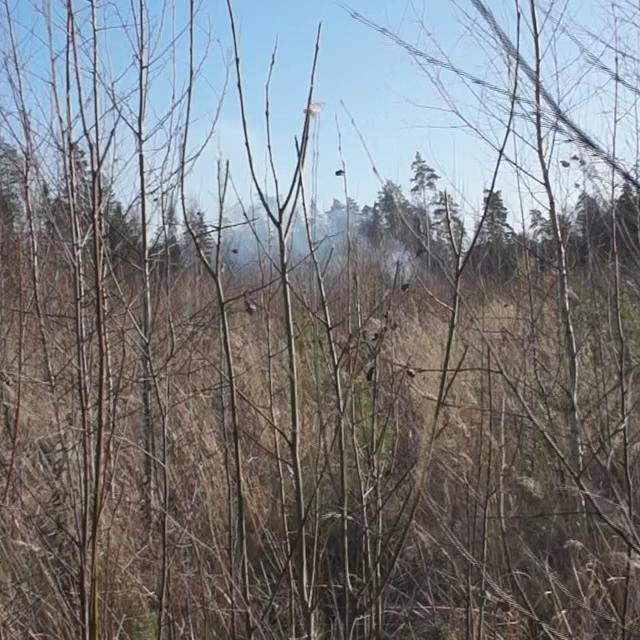Smoke: (216, 186, 420, 284)
